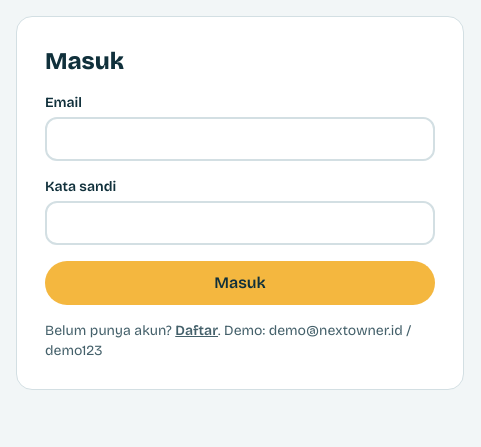
Test: LoginPage › menampilkan pesan error
Type "a@x.id" into the field labelled "Email" at {"x": 240, "y": 139}, box 45,117 -> 435,161
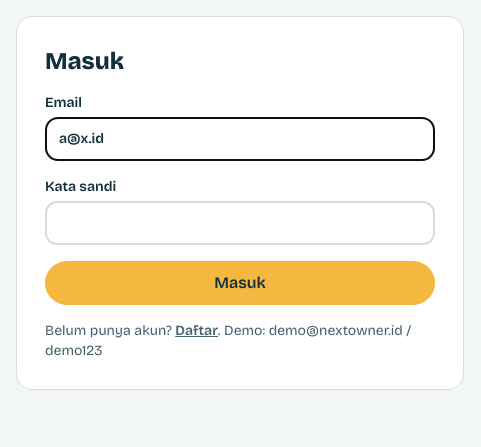
Type "secret1" into the password field labelled "Kata sandi" at {"x": 240, "y": 223}, box 45,201 -> 435,245
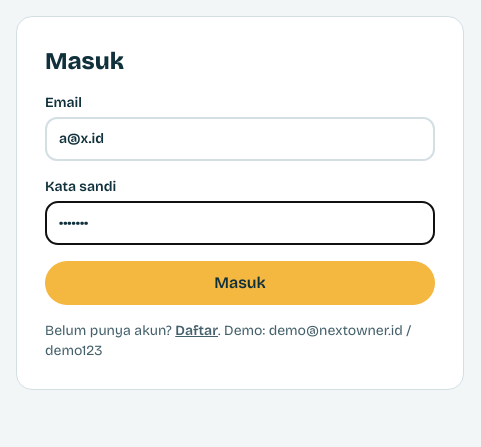
Click the button "Masuk" at {"x": 240, "y": 283}, box 45,261 -> 435,305
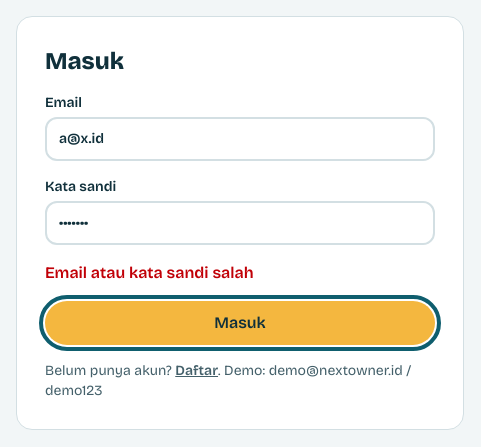
Expected: the message shows "salah", 45,263 -> 254,282
